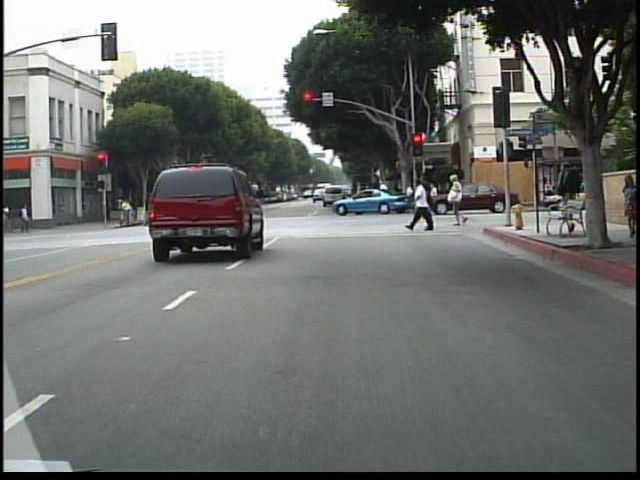person: (555, 158, 582, 229), (446, 173, 473, 230), (617, 169, 638, 239), (409, 178, 434, 232), (258, 180, 276, 232), (420, 178, 437, 228), (376, 177, 397, 215), (357, 180, 374, 215), (20, 202, 36, 237), (403, 180, 418, 215), (119, 194, 133, 231), (2, 200, 15, 235), (147, 192, 148, 231)
